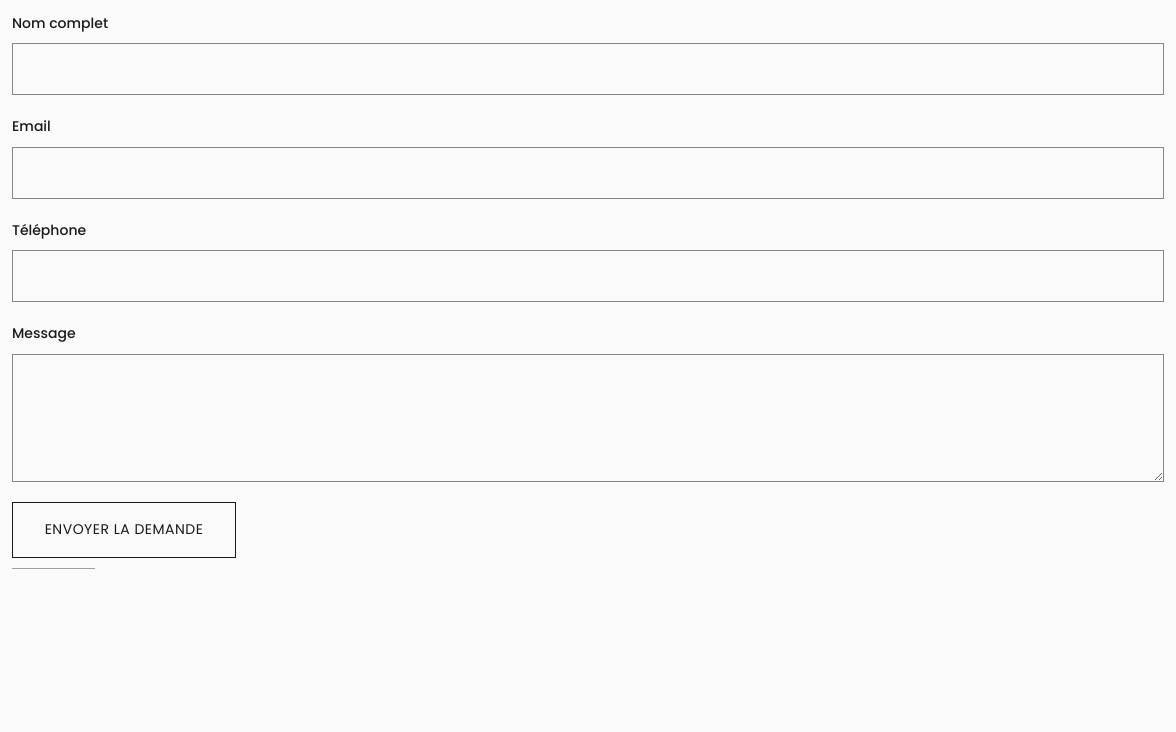
Test: ContactForm › shows accessible validation messages before sending
Click the button "ENVOYER LA DEMANDE".
click(124, 530)  # box [12, 502, 236, 558]
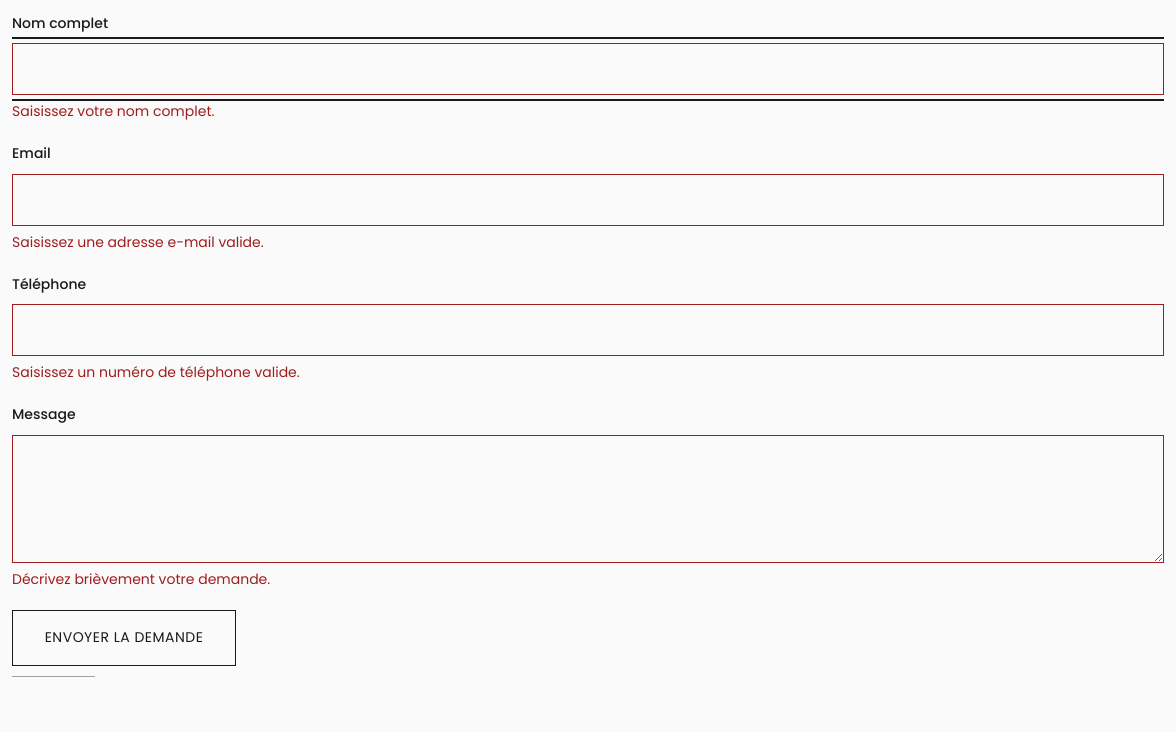
Now the text "Saisissez votre nom complet." is shown, box [12, 102, 214, 122]
Now the text "Saisissez une adresse e-mail valide." is shown, box [12, 232, 264, 252]
